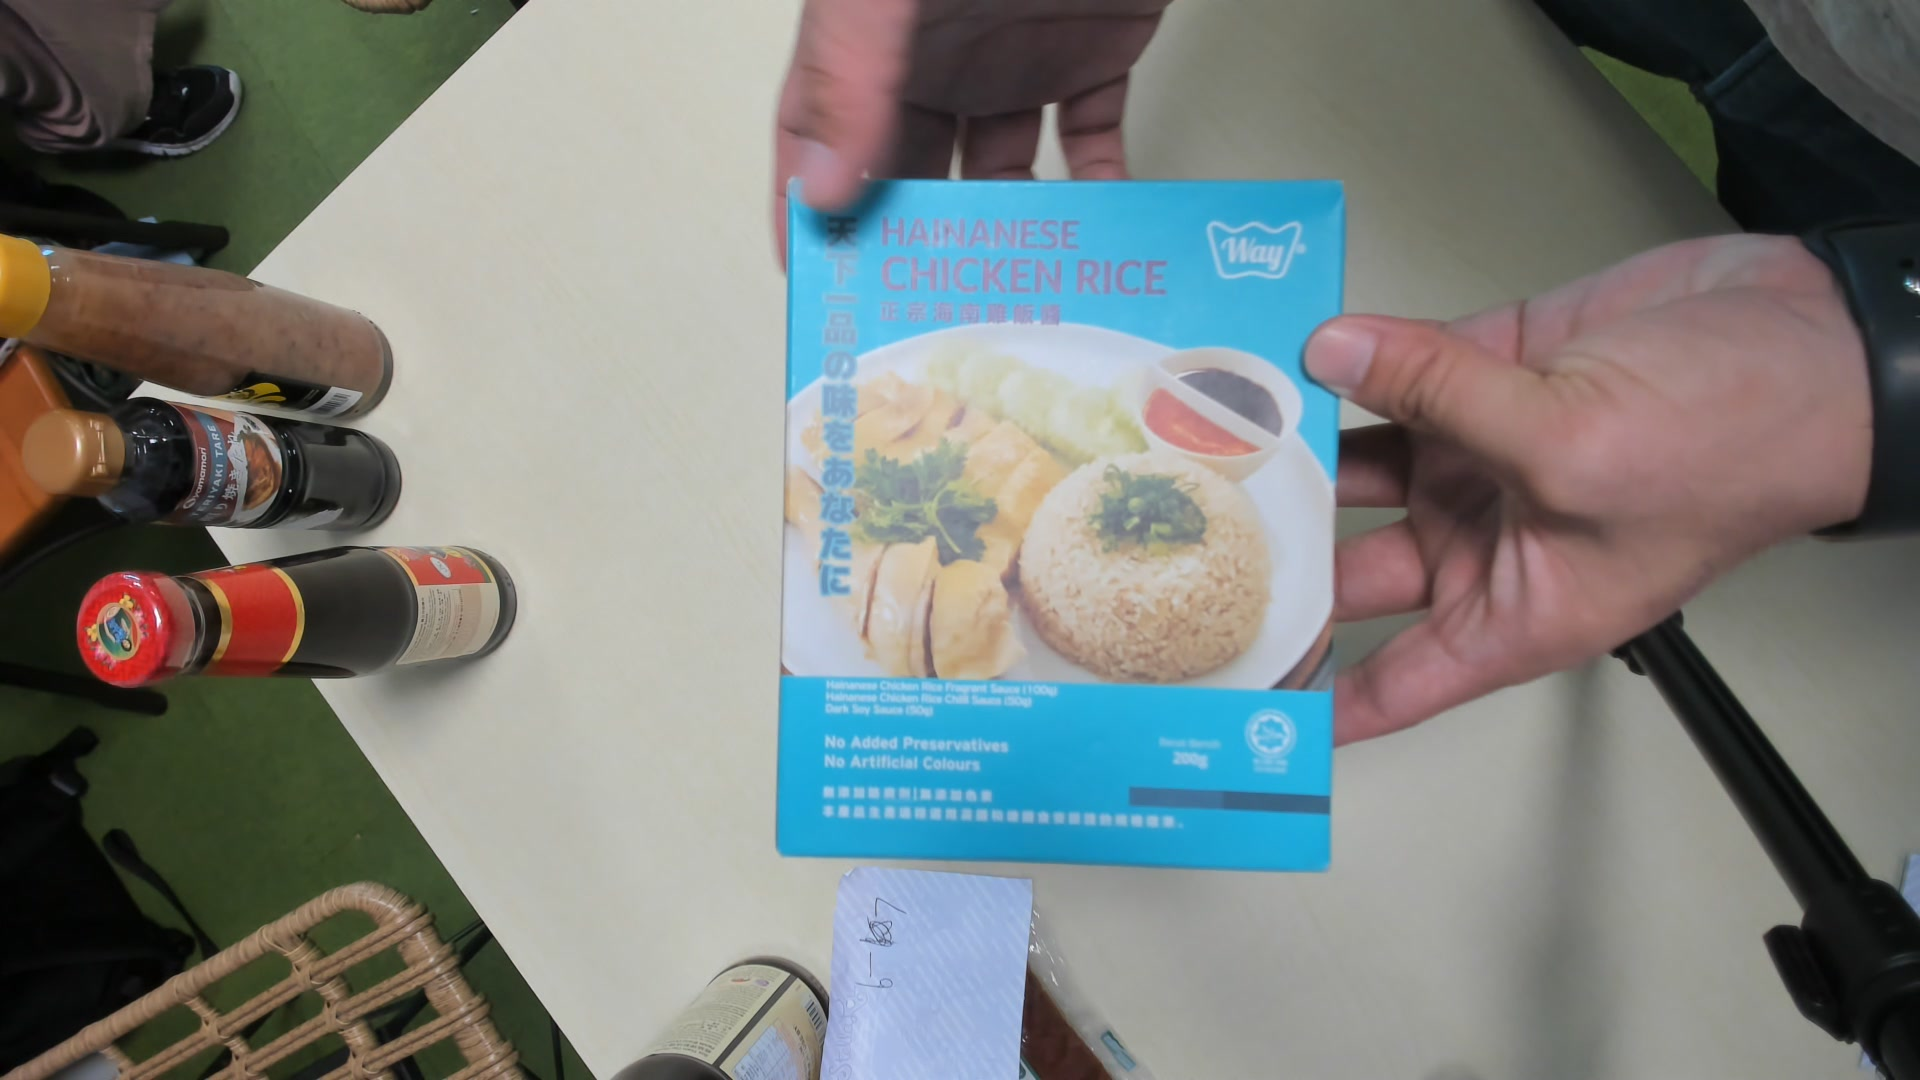OtherSauceDressingSoupbasePaste_200-299g_Halal_NonHealthy: (771, 167, 1323, 872)
